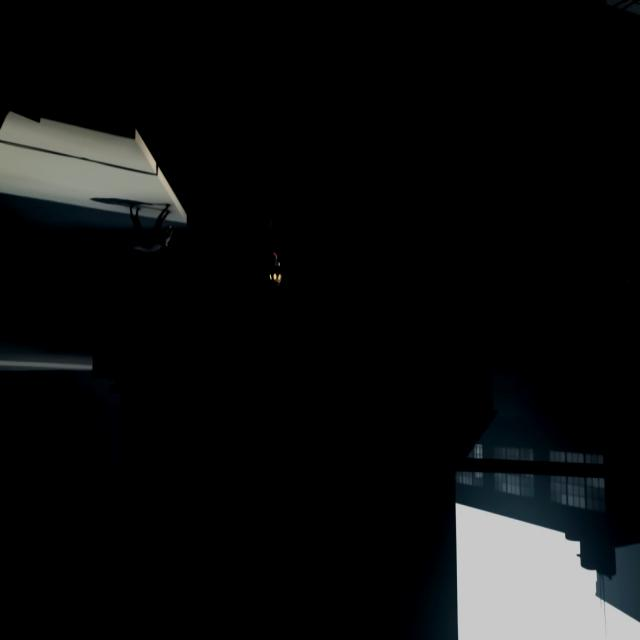boy: (268, 181, 286, 270)
